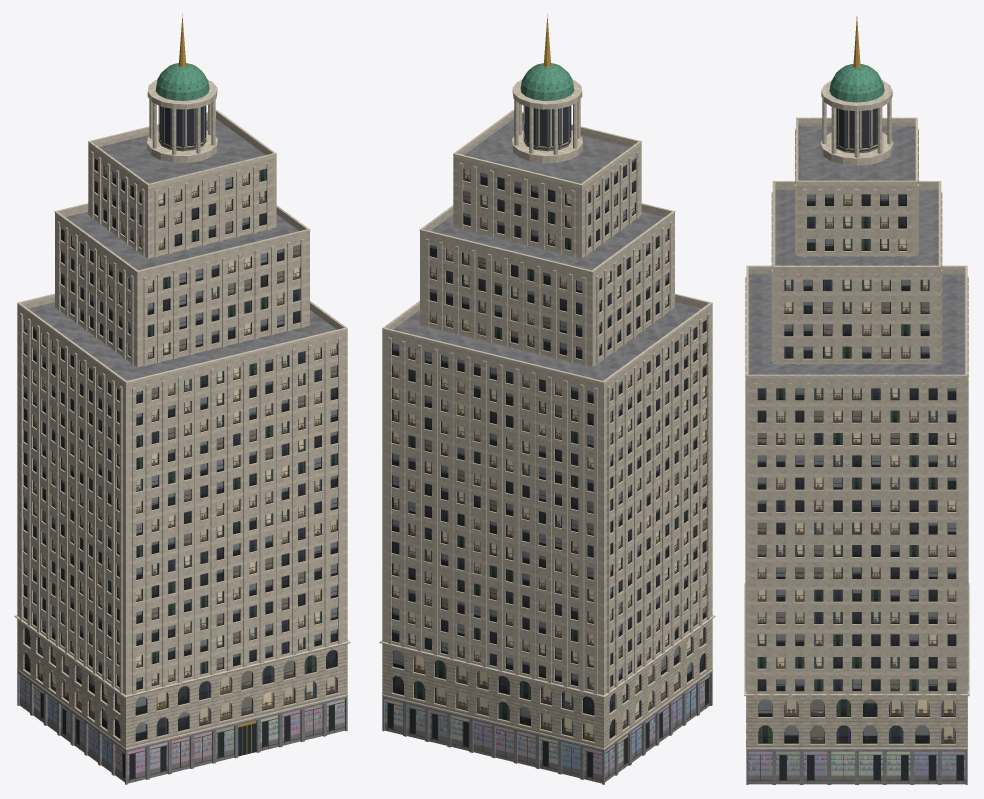
The model's file is hd30_civic_setback_tower.gltf.
3 renders of one model, left to right at view 1: azimuth 30°, elevation 25°; view 2: azimuth 150°, elevation 25°; view 3: azimuth 270°, elevation 25°, orthographic.
Visible parts, largest first — view 1: hd30_civic_setback_tower_LOD0; view 2: hd30_civic_setback_tower_LOD0; view 3: hd30_civic_setback_tower_LOD0.
Part boxes in pixels (bbox=[...]): hd30_civic_setback_tower_LOD0: bbox=[14, 14, 350, 784]; hd30_civic_setback_tower_LOD0: bbox=[379, 14, 715, 784]; hd30_civic_setback_tower_LOD0: bbox=[744, 16, 969, 784].
Size of what is drawn, in the model's own units: 40.7 by 122 by 34.7.
11 materials, 7 textured.
